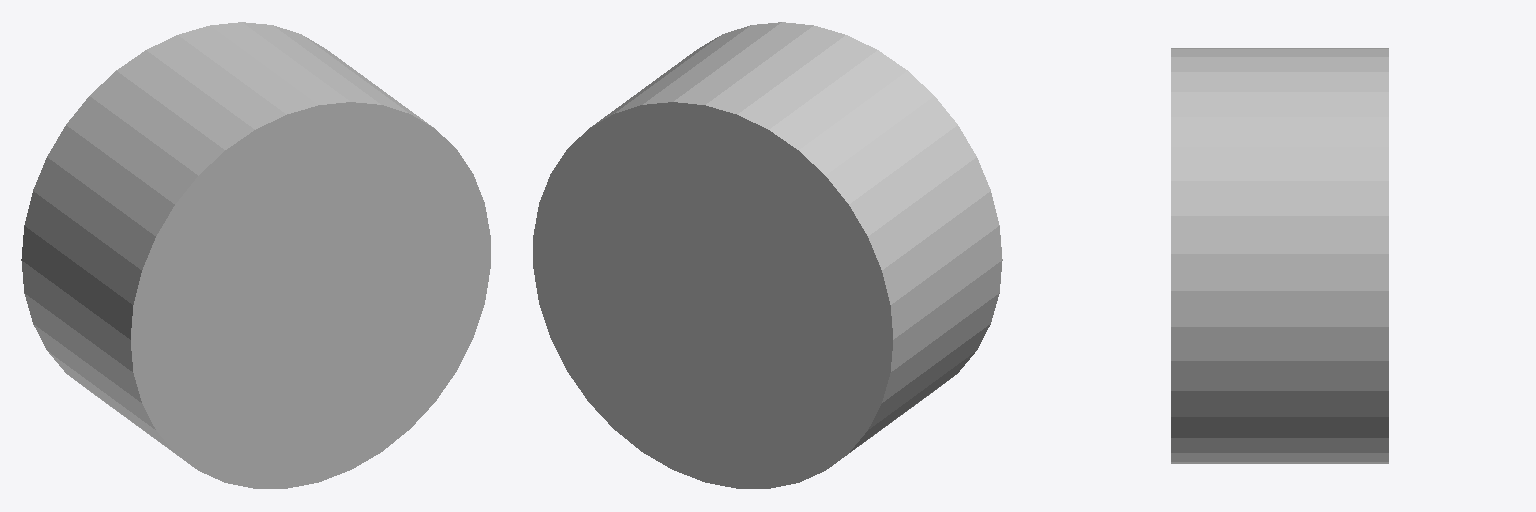
Rendered from col10.obj.
The picture shows the model from 3 angles: view 1: azimuth 30°, elevation 25°; view 2: azimuth 150°, elevation 25°; view 3: azimuth 270°, elevation 25°; orthographic projection.
Parts seen in each view (by area): view 1: Körper10; view 2: Körper10; view 3: Körper10.
Part boxes in pixels (bbox=[...]): Körper10: bbox=[21, 22, 490, 488]; Körper10: bbox=[533, 22, 1002, 488]; Körper10: bbox=[1171, 48, 1388, 463].
Size of the model in its own units: 0.0152 by 0.0153 by 0.008.